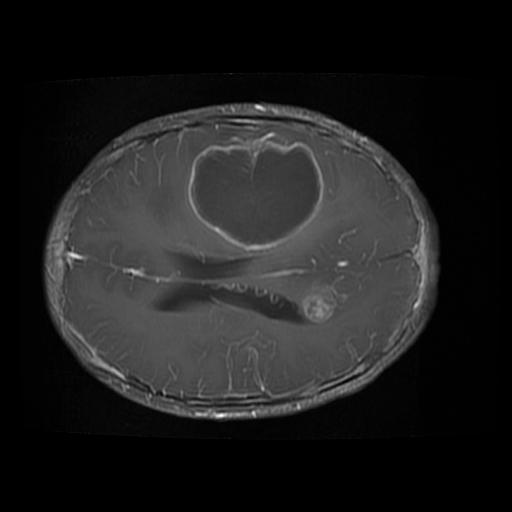glioma: (189, 141, 321, 250)
